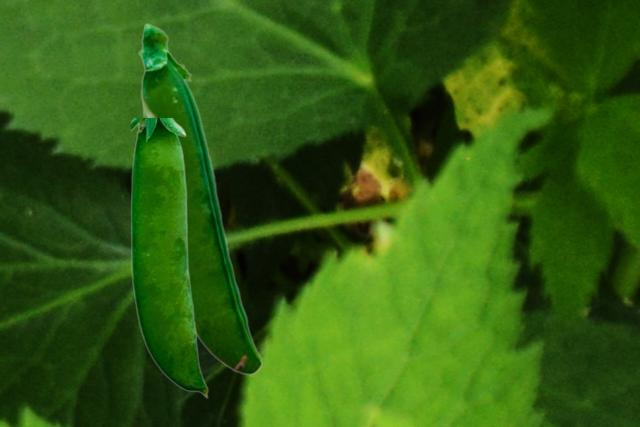pea: (138, 22, 261, 374), (131, 118, 207, 397)
